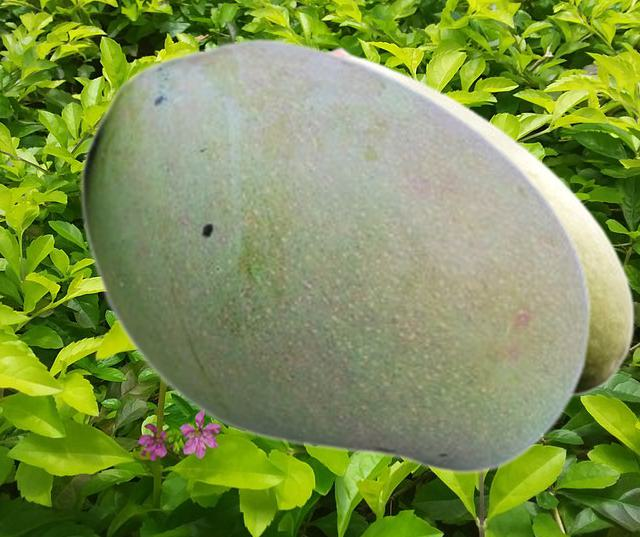green_mango: (79, 36, 591, 474), (330, 45, 634, 397)
